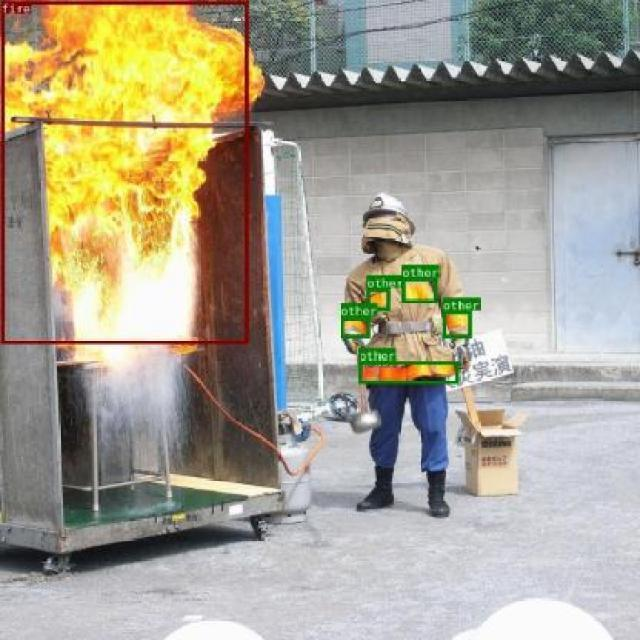Fire: (0, 0, 248, 343)
